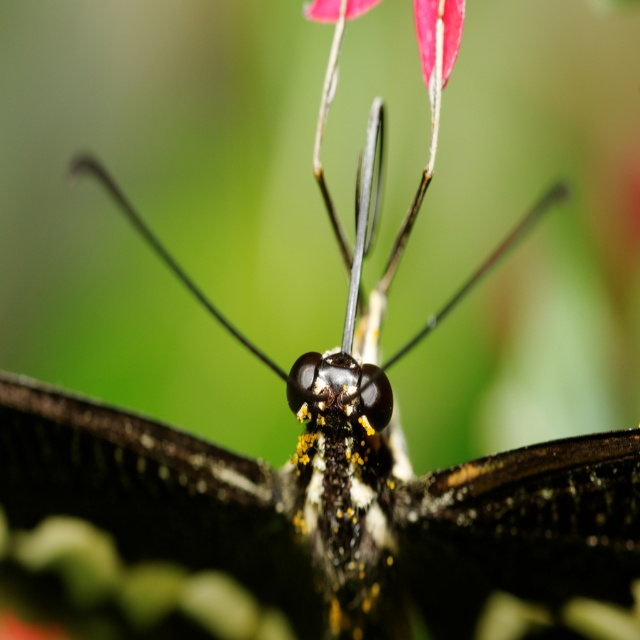Butterfly: (38, 47, 613, 640)
